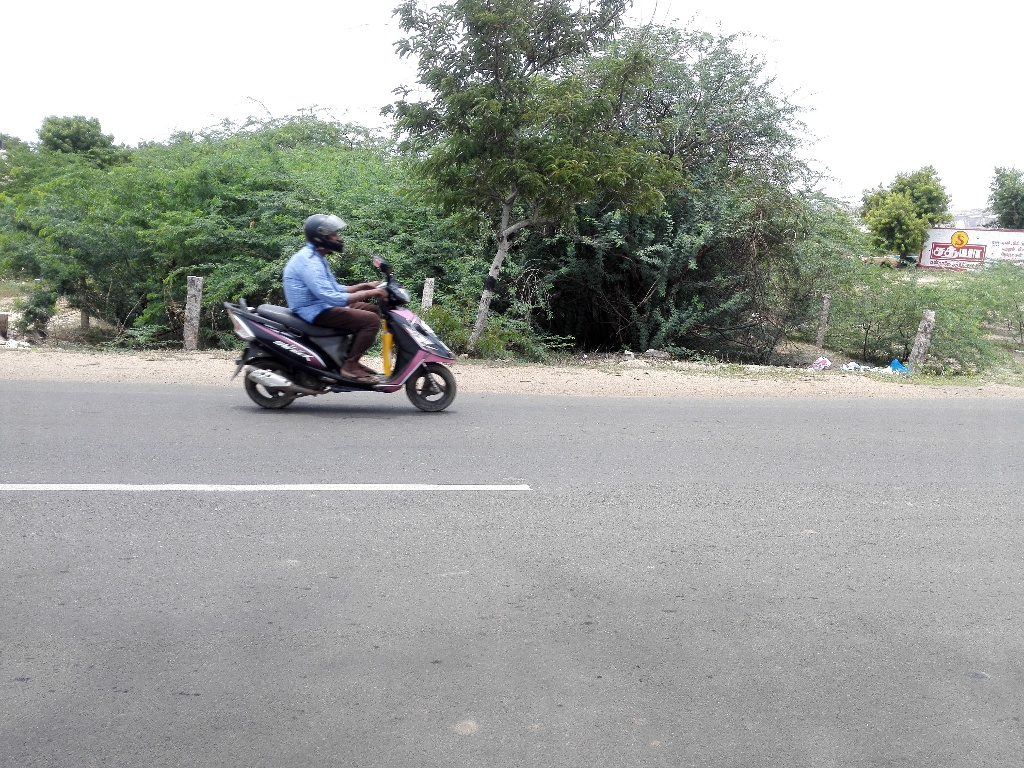biker: (208, 166, 483, 431)
helmet: (295, 198, 361, 266)
